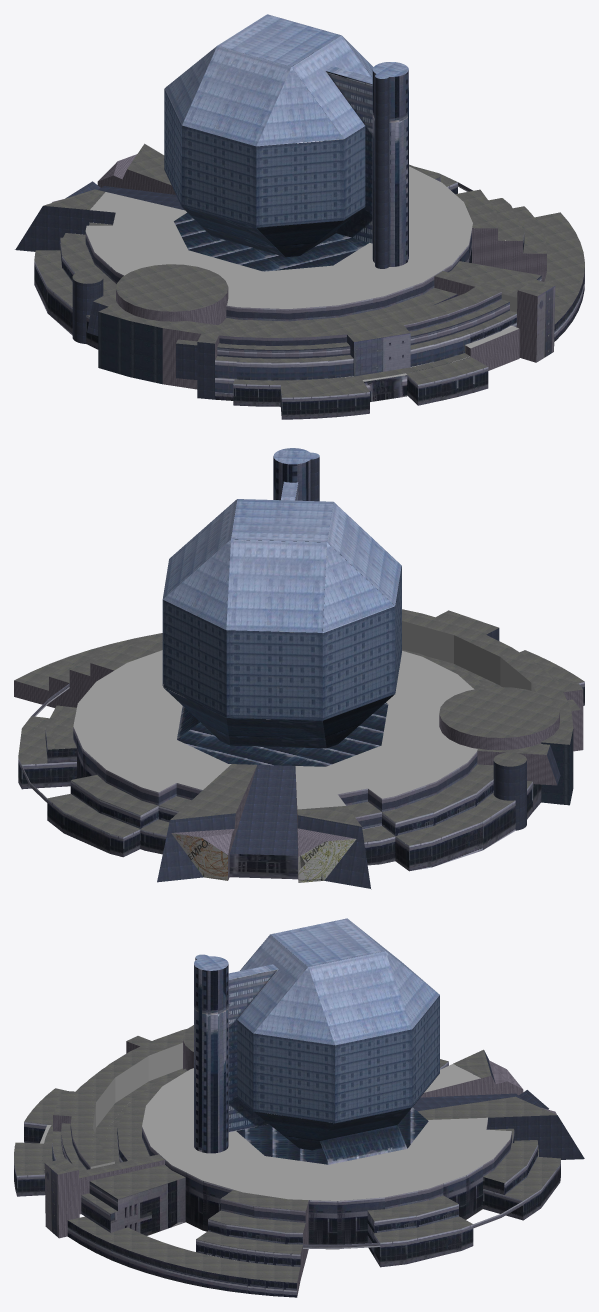
The model's file is nacbiblioteka.glb.
3 renders of one model, top to bottom at view 1: azimuth 30°, elevation 25°; view 2: azimuth 150°, elevation 25°; view 3: azimuth 270°, elevation 25°, orthographic. The views are drawn at different scales.
Parts seen in each view (by area): view 1: Geom3D (×19); view 2: Geom3D (×17); view 3: Geom3D (×18).
Boxes of the visible parts, x1,y1,x2,y2 form: Geom3D (×19): (15, 14, 584, 419); Geom3D (×17): (14, 448, 584, 889); Geom3D (×18): (14, 918, 584, 1297).
Bounding box in the file's own units: 156 × 74.53 × 164.
Materials: 33 (25 with a texture image).
